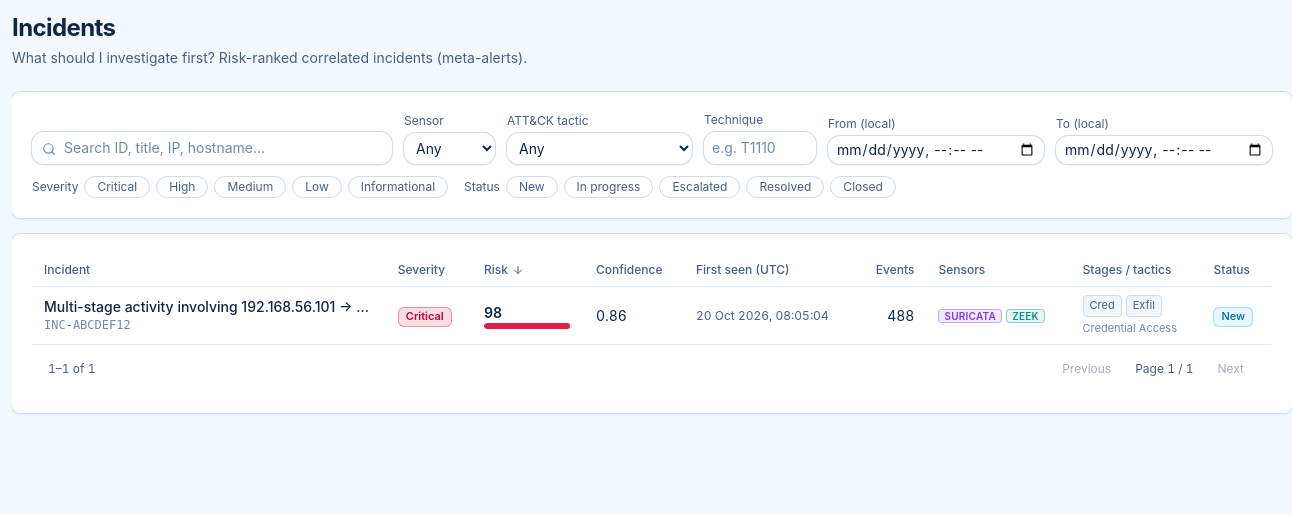
Test: incidents page › search and severity filters reach the API and show an empty state
Expected: the text "Multi-stage activity involving 192.168.56.101 → 10.10.0.20" is shown, left=44, top=297, right=374, bottom=317
Click the button "High" at {"x": 182, "y": 187}, box left=156, top=176, right=208, bottom=198
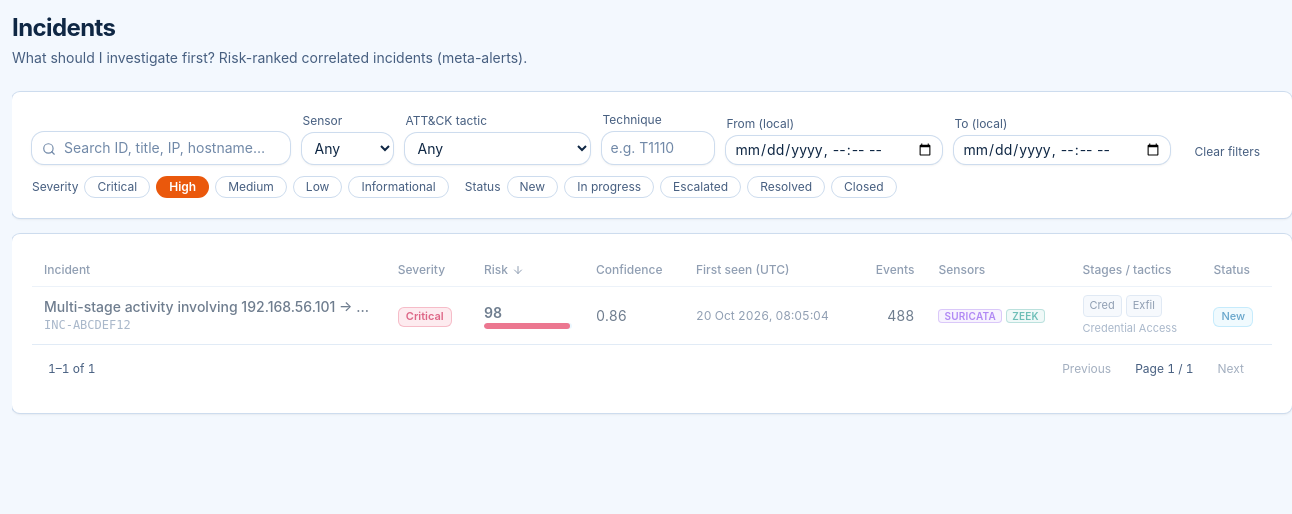
Type "nomatch" into the field with placeholder "Search ID, title, IP, hostname…" at {"x": 161, "y": 148}, box left=32, top=132, right=290, bottom=164
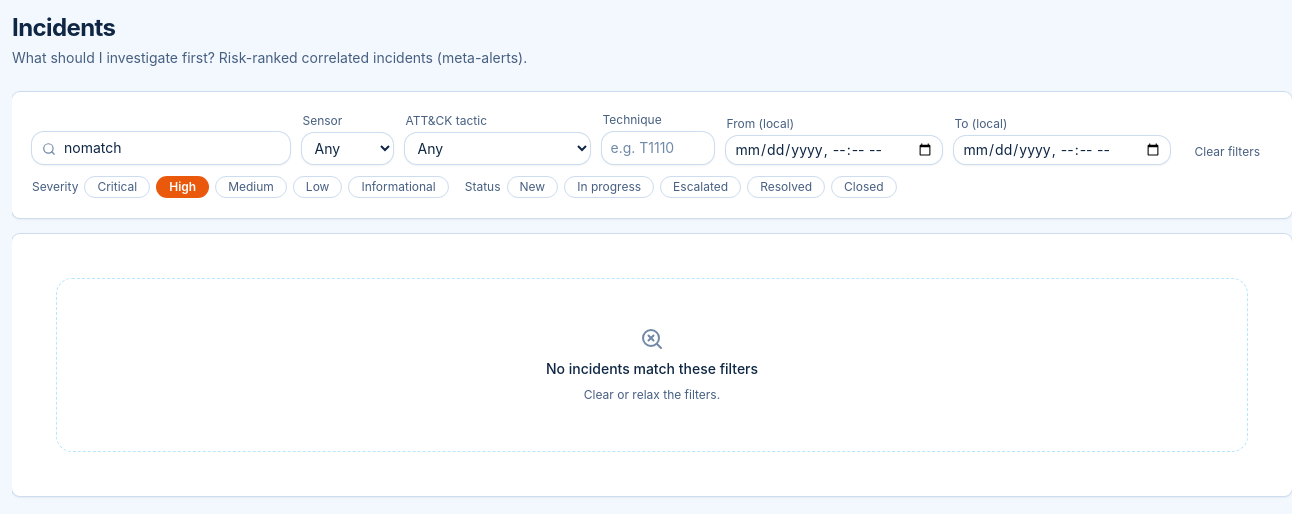
Now the text "No incidents match these filters" is shown, box left=546, top=359, right=758, bottom=379
